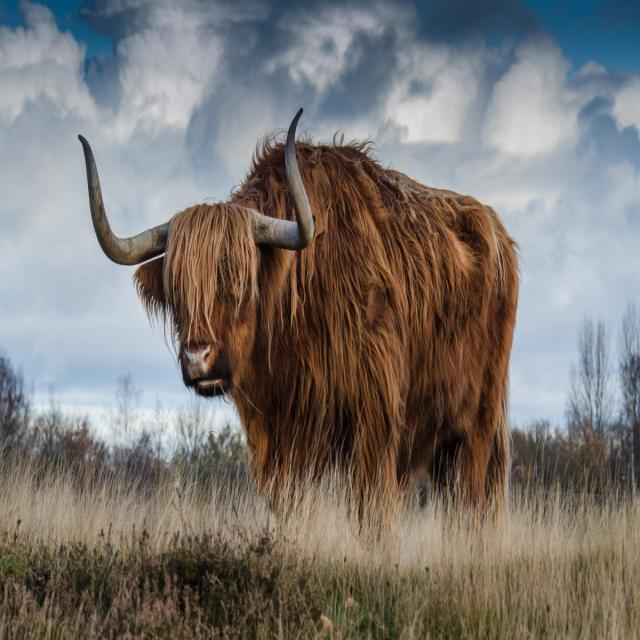Ox: (70, 95, 527, 536)
